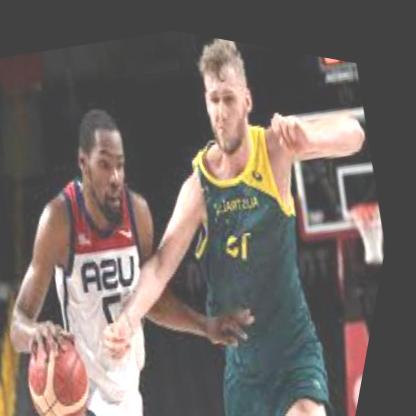basketball: (23, 321, 122, 416)
